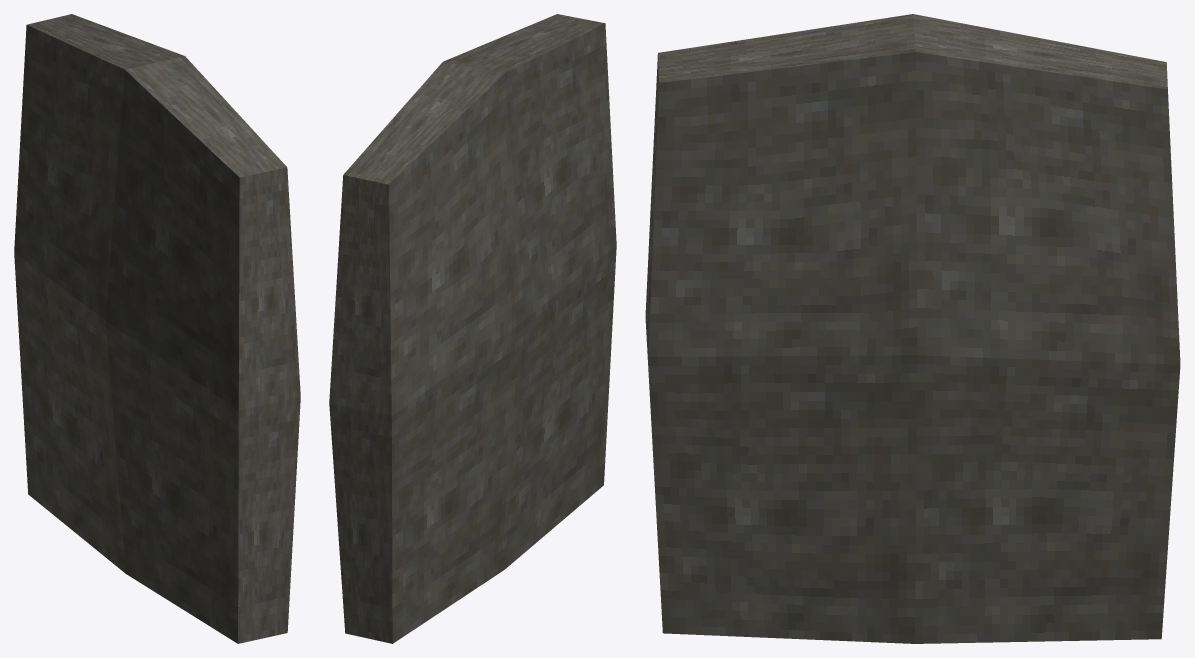
Rendered from rock_06.glb.
The picture shows the model from 3 angles, left to right: view 1: azimuth 30°, elevation 25°; view 2: azimuth 150°, elevation 25°; view 3: azimuth 270°, elevation 25°; orthographic projection. The views are drawn at different scales.
Visible parts, largest first — view 1: rockWall-col; view 2: rockWall-col; view 3: rockWall-col.
Part boxes in pixels (box(x1,y1,x2,y2)): rockWall-col: box(14, 14, 300, 643); rockWall-col: box(329, 14, 616, 643); rockWall-col: box(645, 14, 1180, 643).
Size of the model in its own units: 1.65 by 7.71 by 6.28.
1 material, 1 textured.
